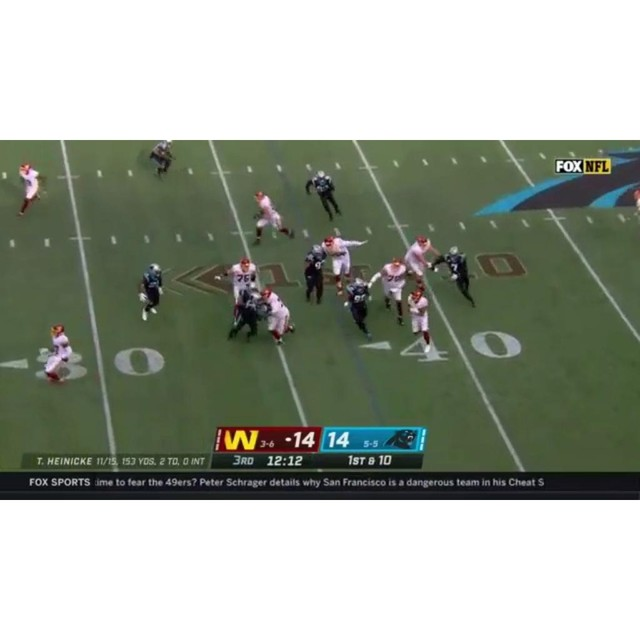american-football-player: (368, 256, 408, 327), (41, 323, 76, 385), (254, 189, 294, 243), (444, 247, 477, 308), (305, 168, 342, 221), (407, 286, 434, 354), (228, 290, 263, 342), (403, 235, 437, 288), (261, 288, 292, 346), (344, 279, 373, 340), (138, 263, 165, 322), (303, 243, 328, 305), (17, 162, 43, 218), (148, 140, 174, 181)
